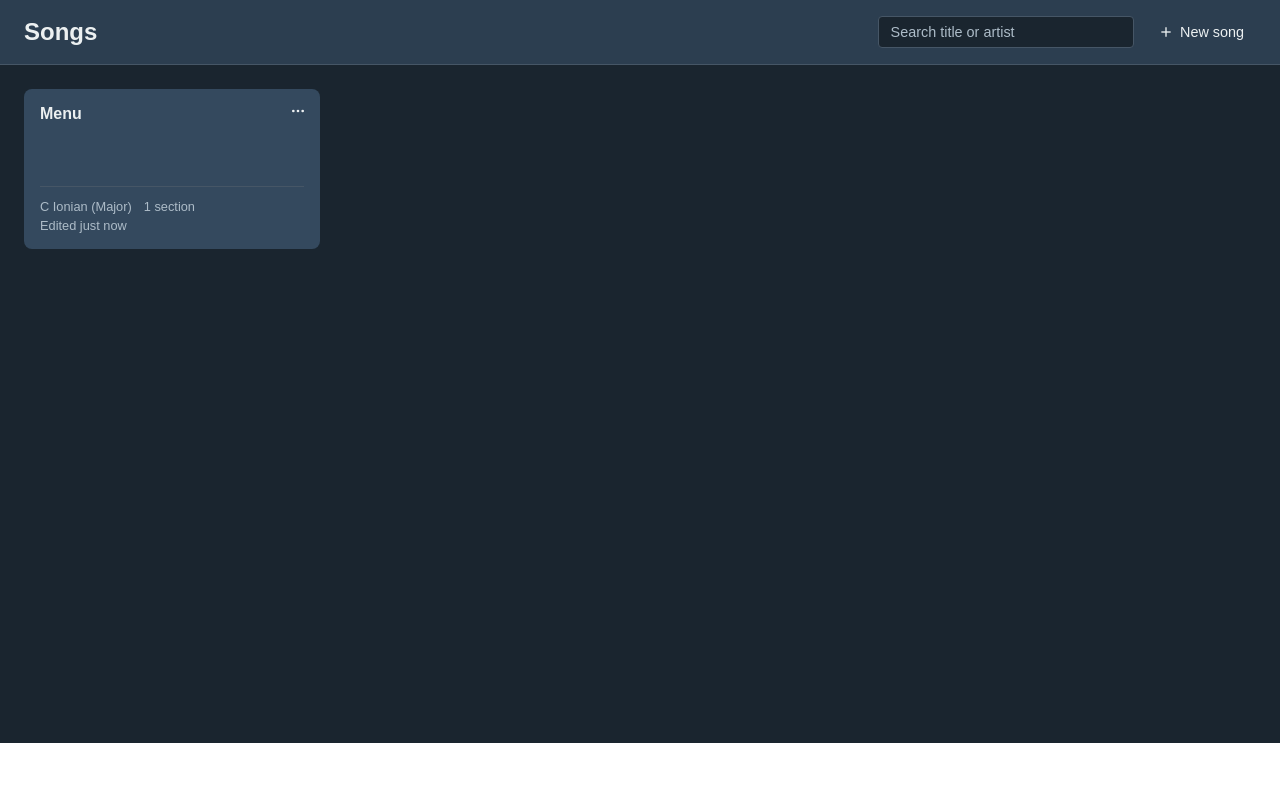
Test: SongLibraryPageComponent › a card's menu › opens on its button, and stays open: the click that opened it is not a click outside it
This screenshot has width=1280, height=800.
Click the button with class "card-menu-toggle".
click(298, 111)  # box left=285, top=97, right=312, bottom=125
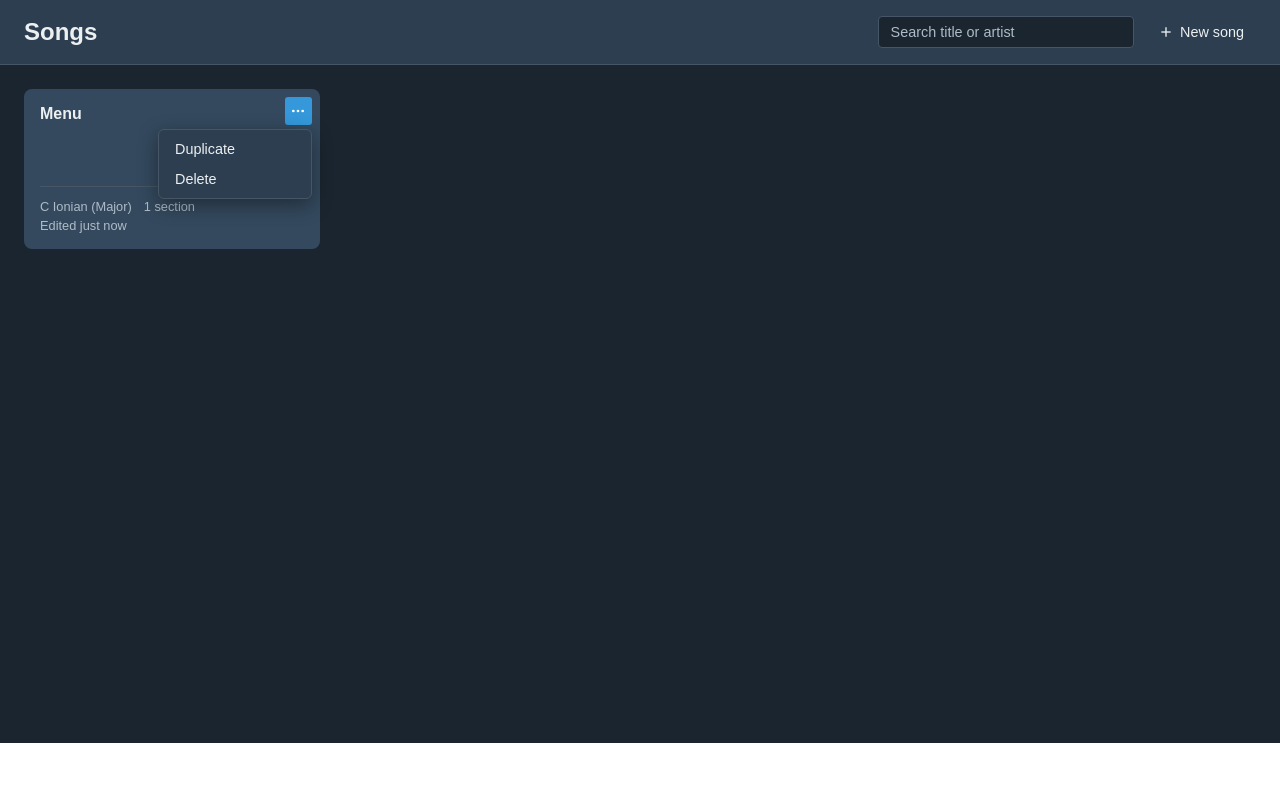
Expected: the button with class "card-menu-toggle" is expanded, left=285, top=97, right=312, bottom=125
